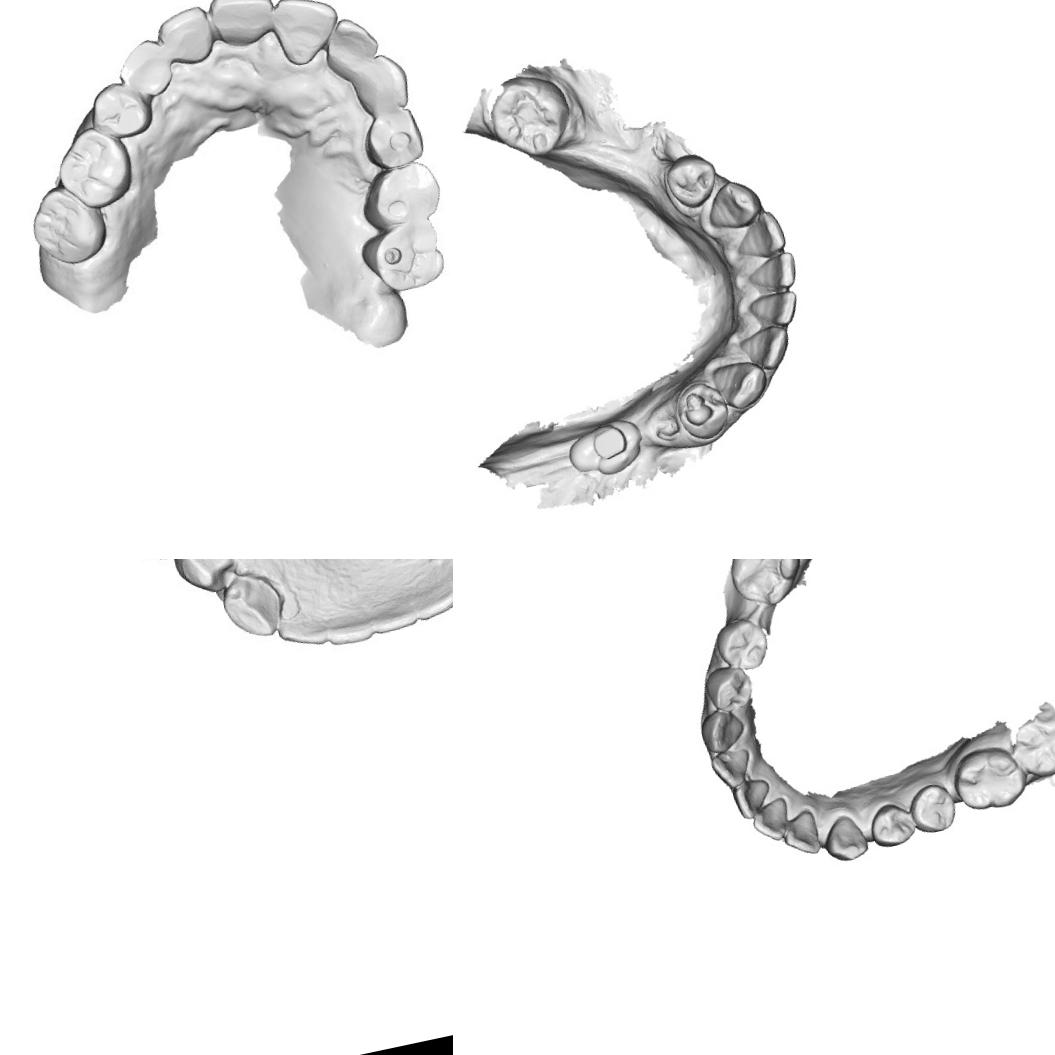canine: (346, 46, 414, 120), (112, 33, 180, 104), (700, 175, 767, 236), (710, 356, 773, 414), (818, 810, 872, 868), (695, 705, 750, 756)
incisor: (266, 0, 347, 70), (317, 10, 385, 81), (152, 1, 218, 69), (203, 0, 283, 53), (728, 207, 790, 266), (734, 321, 794, 376), (742, 248, 802, 296), (746, 286, 804, 332), (777, 806, 825, 860), (707, 744, 757, 793), (747, 795, 795, 846), (730, 776, 776, 822)
molar: (481, 68, 578, 166), (20, 176, 114, 274), (48, 120, 140, 217), (352, 156, 450, 238), (357, 215, 451, 299), (946, 739, 1031, 818), (562, 412, 650, 482), (721, 559, 811, 613), (1009, 710, 1055, 782)
premolar: (356, 105, 431, 179), (82, 75, 156, 144), (669, 376, 734, 446), (661, 148, 722, 214), (710, 614, 774, 676), (904, 778, 960, 838), (698, 660, 756, 717), (864, 798, 920, 852)
